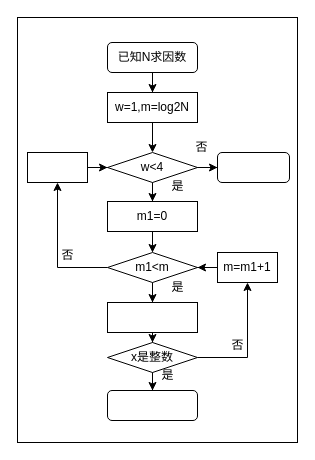
This 315x460 diagram has some shape labels left out. The box of each missing label's shape, as (x1, y1, x2, y2) in pixels:
N是普通整数: (216, 152, 290, 182)
P=gcd(N,x): (106, 390, 198, 420)
w=w+0.25: (26, 152, 88, 182)
计算x: (106, 302, 198, 332)
